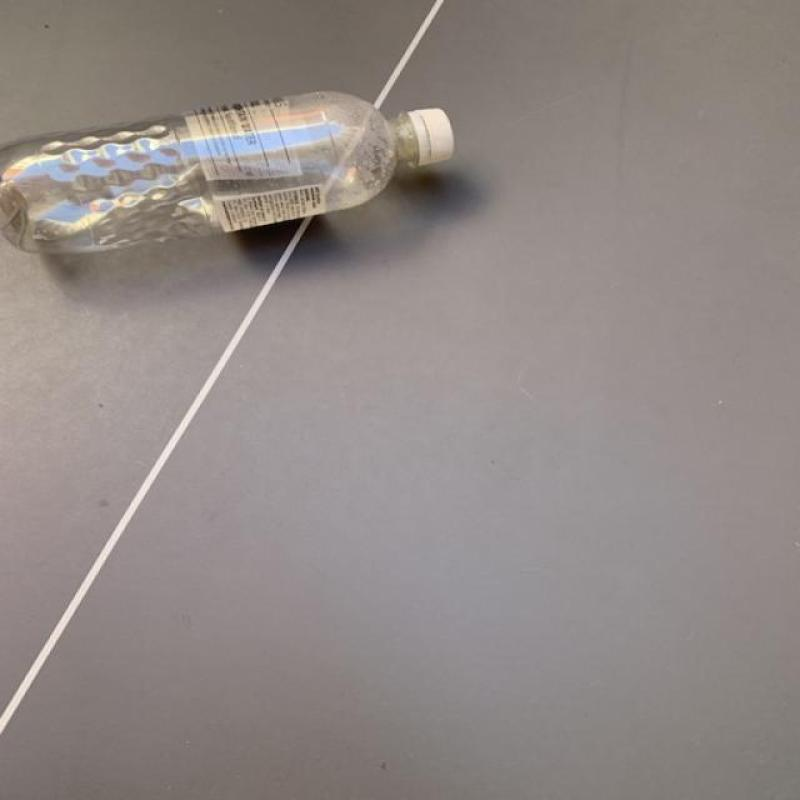botella: (0, 90, 454, 252)
